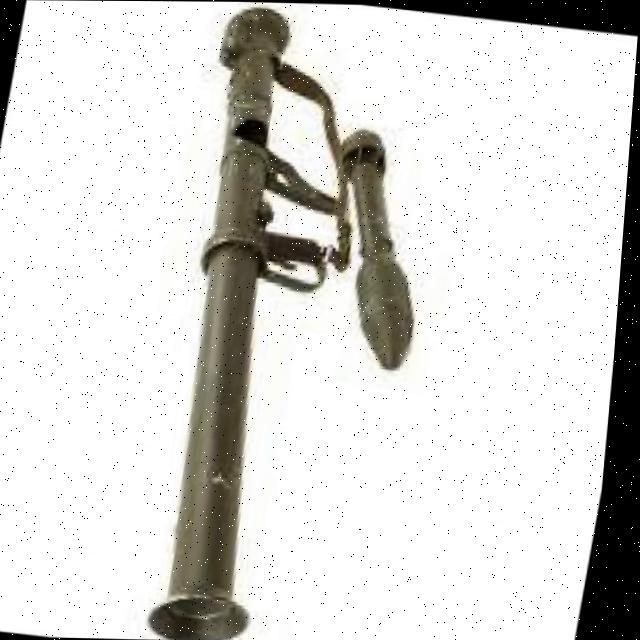rocket: (112, 1, 458, 640)
